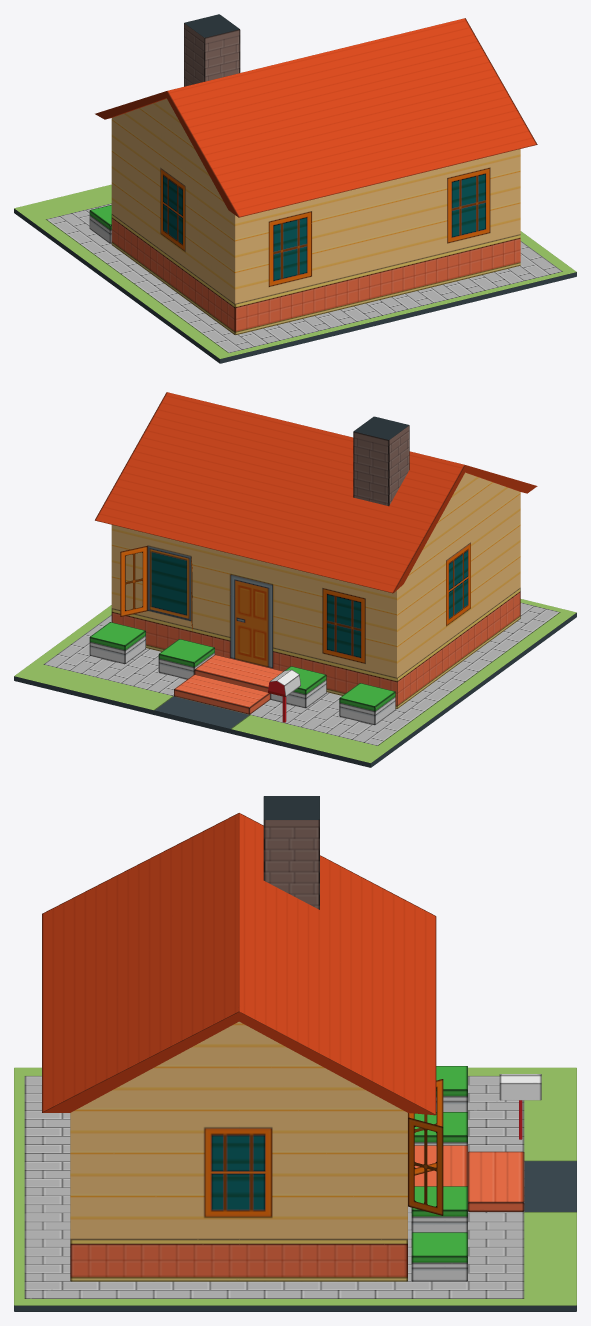
File: capecode.fbx
3 views of the same model, one above another, from view 1: azimuth 30°, elevation 25°; view 2: azimuth 150°, elevation 25°; view 3: azimuth 270°, elevation 25° (orthographic). The views are drawn at different scales.
Visible parts, largest first — view 1: group, plane; view 2: group, plane; view 3: group, plane.
Boxes of the visible parts, <box> form: group: <box>89,14,537,334</box>; plane: <box>14,184,576,363</box>; group: <box>89,392,537,725</box>; plane: <box>14,599,576,767</box>; group: <box>42,796,541,1281</box>; plane: <box>14,1067,576,1311</box>.
Bounding box in the file's own units: 1000 × 644 × 1000.
1 material, 1 textured.
